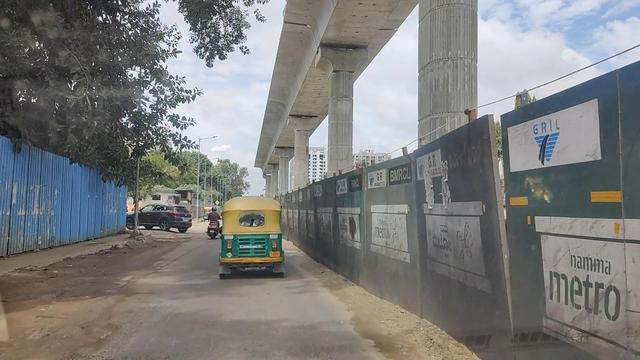LMV: (213, 195, 288, 280)
UnsurfacedRoad: (6, 272, 121, 337)
